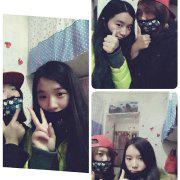NONE: (100, 13, 133, 46), (124, 150, 149, 179)
WRONG: (34, 87, 74, 127), (137, 7, 164, 36), (4, 84, 24, 118), (94, 149, 113, 174)
